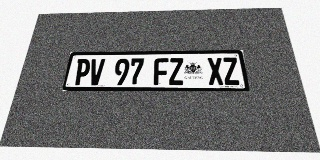7: (128, 58, 144, 85)
9: (113, 58, 130, 85)
F: (154, 58, 168, 85)
P: (73, 59, 91, 85)
V: (88, 59, 105, 85)
X: (207, 57, 224, 85)
Z: (222, 57, 241, 85), (169, 58, 184, 85)
